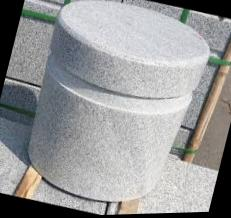Animal: (14, 0, 202, 213)
